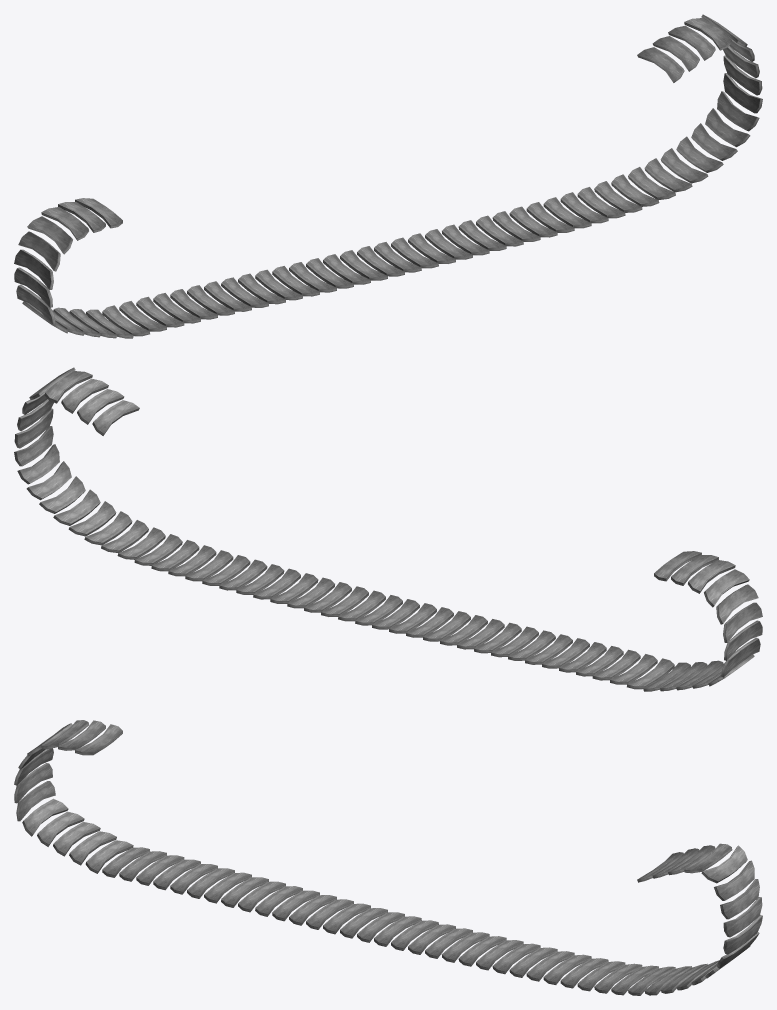
Rendered from tread2.obj.
The picture shows the model from 3 angles, top to bottom: view 1: azimuth 30°, elevation 25°; view 2: azimuth 150°, elevation 25°; view 3: azimuth 330°, elevation 25°; orthographic projection.
Size of the model in its own units: 4.01 by 0.8236 by 0.3462.
